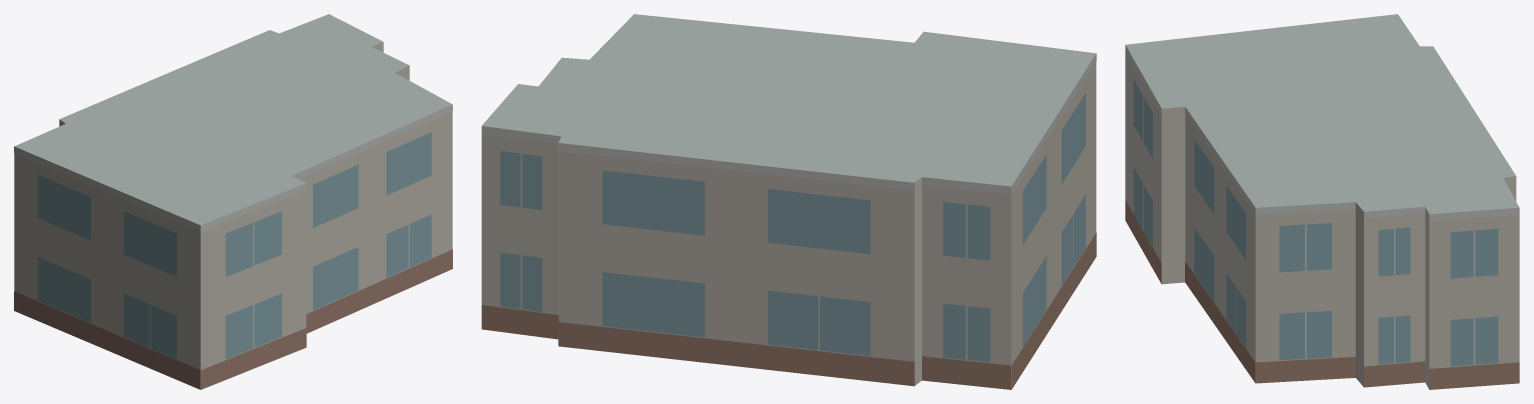
The model's file is survey-upis-32623849.glb.
3 renders of one model, left to right at view 1: azimuth 30°, elevation 25°; view 2: azimuth 150°, elevation 25°; view 3: azimuth 270°, elevation 25°, orthographic. The views are drawn at different scales.
Visible parts, largest first — view 1: survey-upis-32623849.tmp; view 2: survey-upis-32623849.tmp; view 3: survey-upis-32623849.tmp.
Boxes of the visible parts, <box> form: survey-upis-32623849.tmp: <box>14,14,452,389</box>; survey-upis-32623849.tmp: <box>481,14,1096,389</box>; survey-upis-32623849.tmp: <box>1125,14,1519,389</box>.
Bounding box in the file's own units: 14.92 × 6.1 × 12.41.
